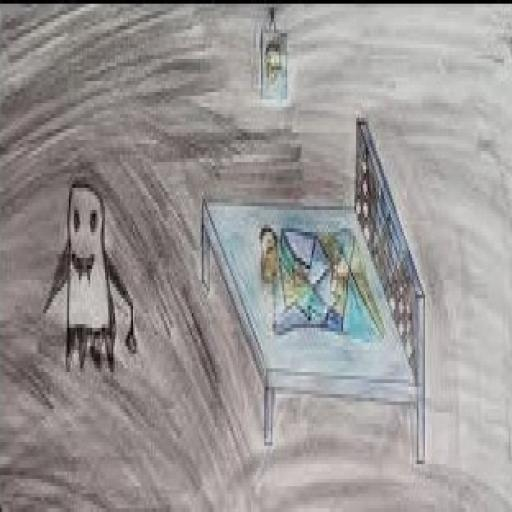person: (46, 168, 141, 387)
